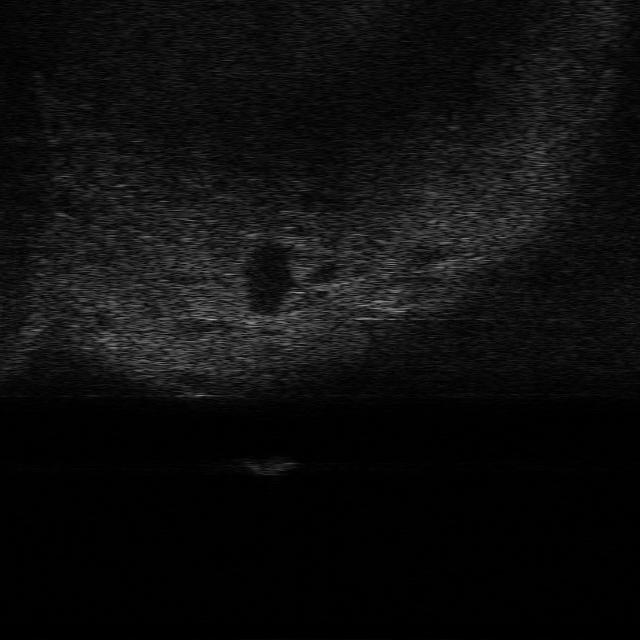cube: (242, 458, 298, 477)
